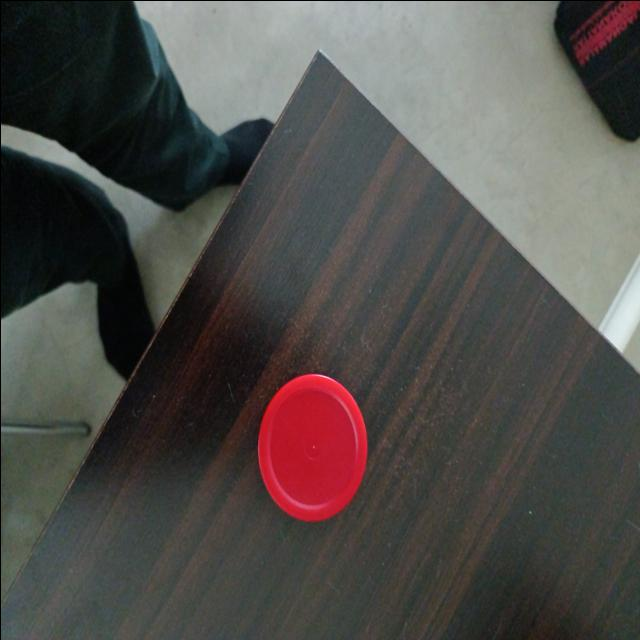chip: (255, 371, 368, 525)
